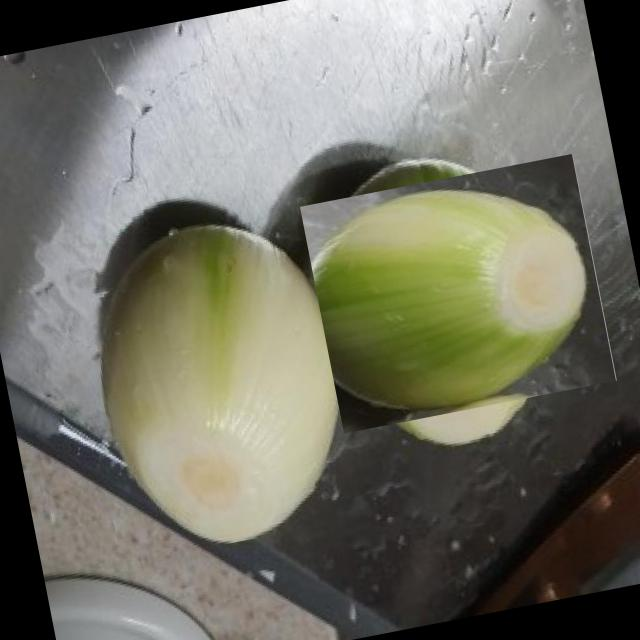Onion: (64, 196, 362, 575), (278, 136, 600, 458)
